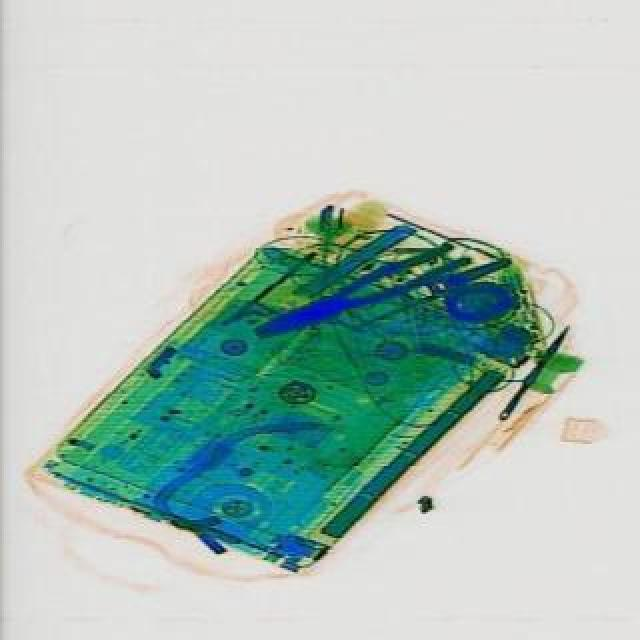wrench: (246, 232, 470, 348)
